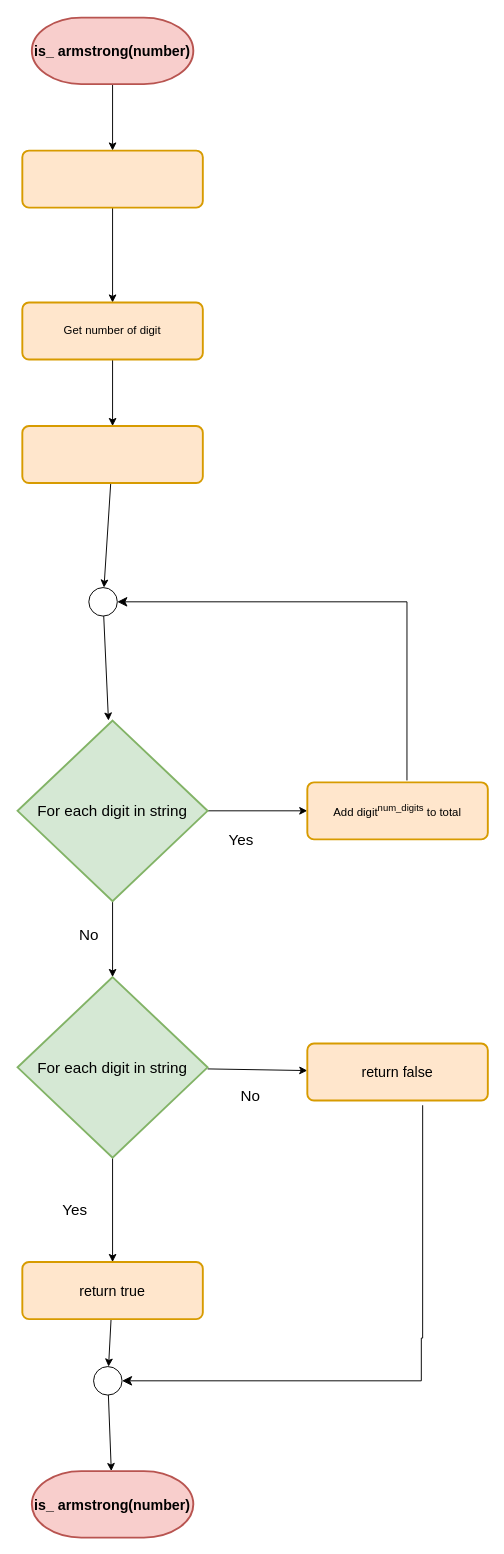
The diagram is 504 pixels wide and 1554 high, and some of its shapes have lost their labels. Here are the shapes that lost their labels. From the top down, the centre of each, then its label:
the point at 112,178: Convert number to string
the point at 112,454: Initialize total to 0
